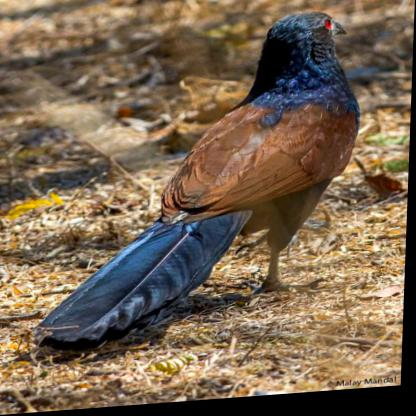Burung: (35, 13, 365, 355)
